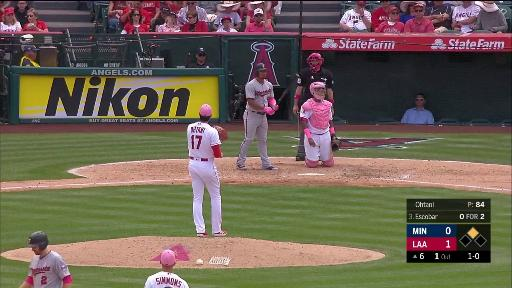pitcher: (187, 103, 228, 238)
